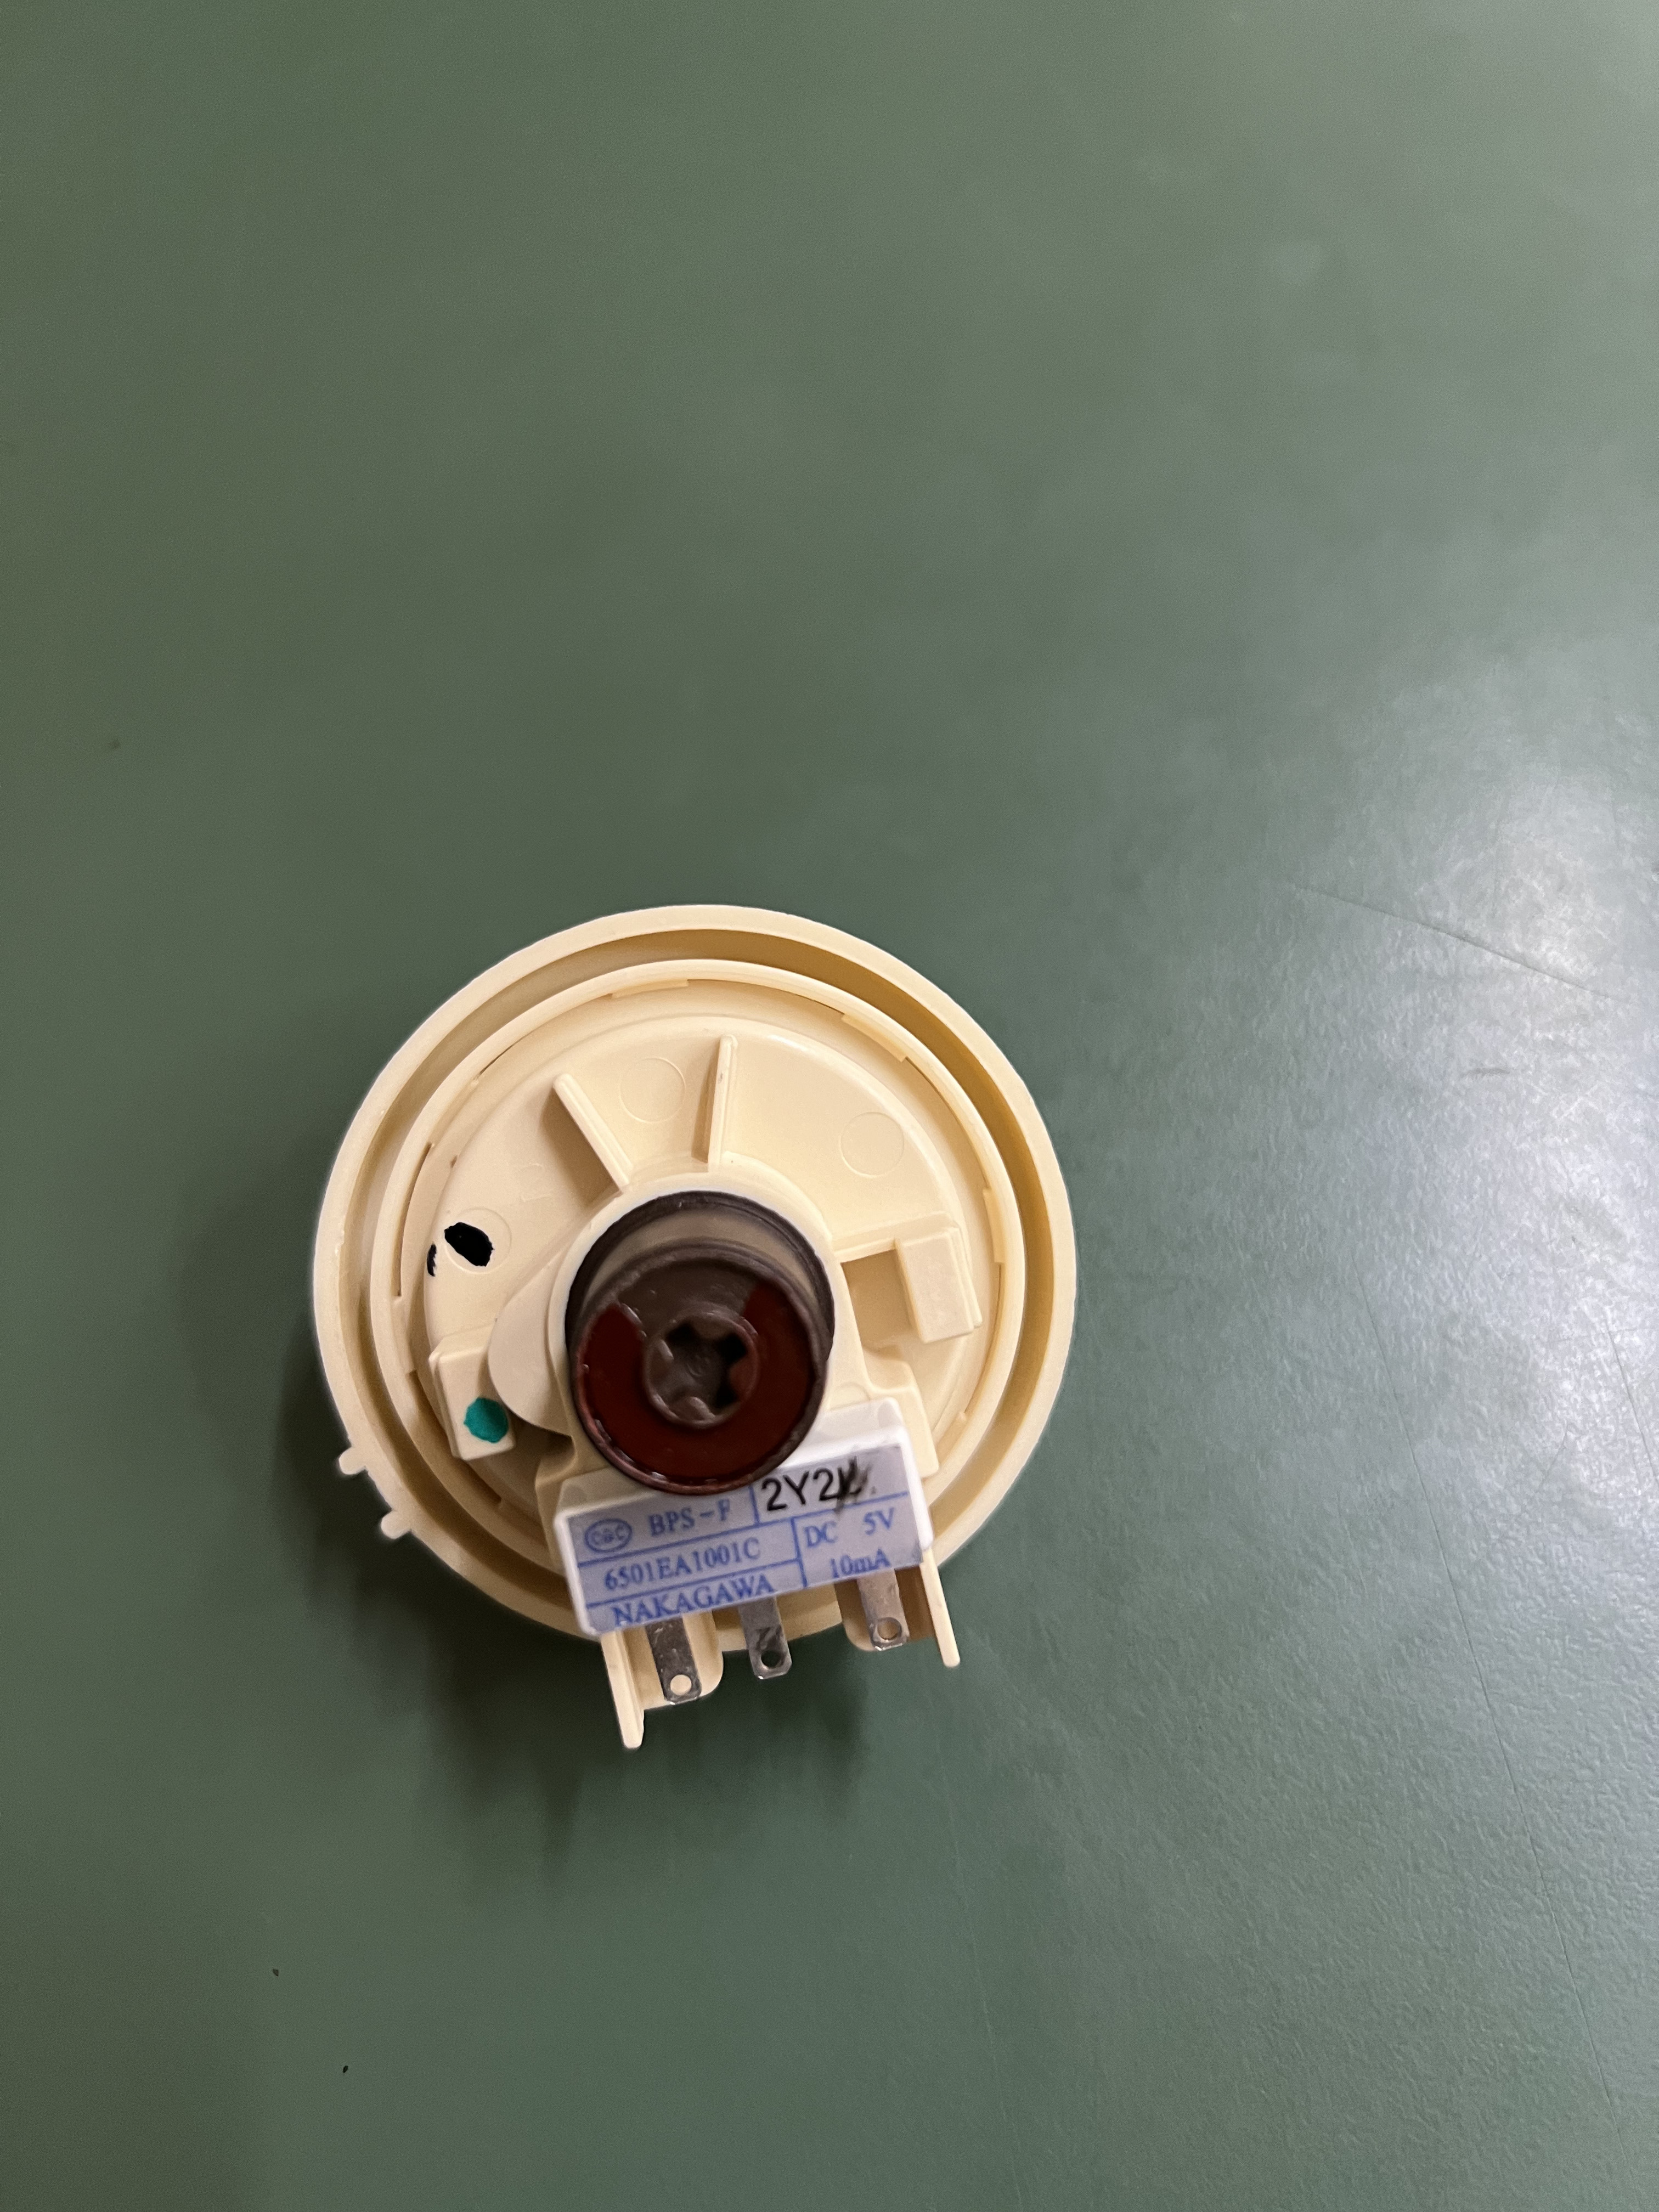pressure_sensor: (313, 890, 1081, 1741)
